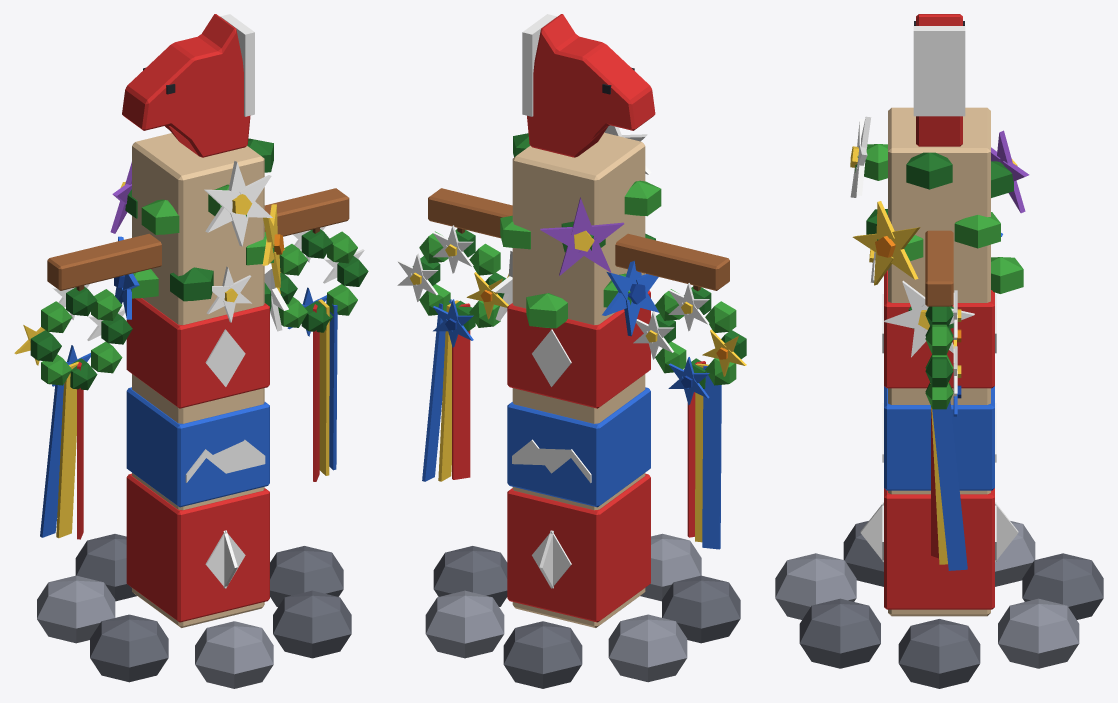
Rendered from totem-1x1.glb.
3 renders of one model, left to right at view 1: azimuth 30°, elevation 25°; view 2: azimuth 150°, elevation 25°; view 3: azimuth 270°, elevation 25°, orthographic. The views are drawn at different scales.
Parts seen in each view (by area): view 1: totem-1x1; view 2: totem-1x1; view 3: totem-1x1.
Boxes of the visible parts, <box> form: totem-1x1: <box>14,14,368,688</box>; totem-1x1: <box>397,14,746,688</box>; totem-1x1: <box>775,14,1103,688</box>.
Bounding box in the file's own units: 0.9 × 1.5 × 0.7105.
1 material, 1 textured.
